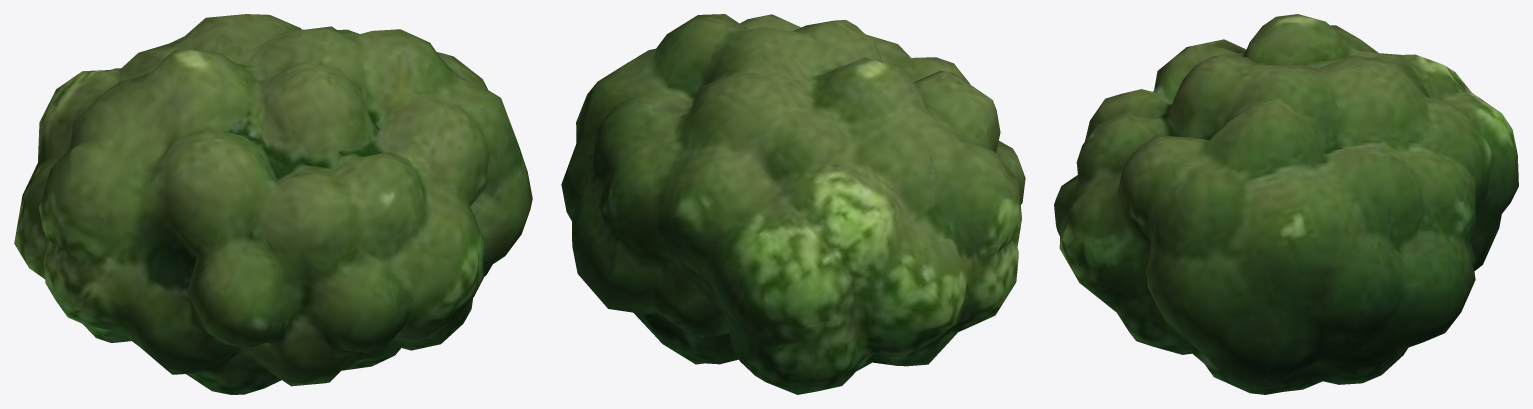
The model's file is bush_green_lod1.glb.
The picture shows the model from 3 angles, left to right: view 1: azimuth 30°, elevation 25°; view 2: azimuth 150°, elevation 25°; view 3: azimuth 270°, elevation 25°; orthographic projection. The views are drawn at different scales.
Visible parts, largest first — view 1: bush_green_low1; view 2: bush_green_low1; view 3: bush_green_low1.
Boxes of the visible parts, x1=… form: bush_green_low1: x1=14, y1=14, x2=532, y2=394; bush_green_low1: x1=561, y1=14, x2=1025, y2=394; bush_green_low1: x1=1054, y1=14, x2=1518, y2=394.
Size of the model in its own units: 1.33 by 0.9829 by 1.32.
1 material, 1 textured.
